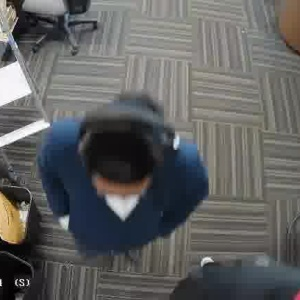person: (40, 86, 187, 239)
